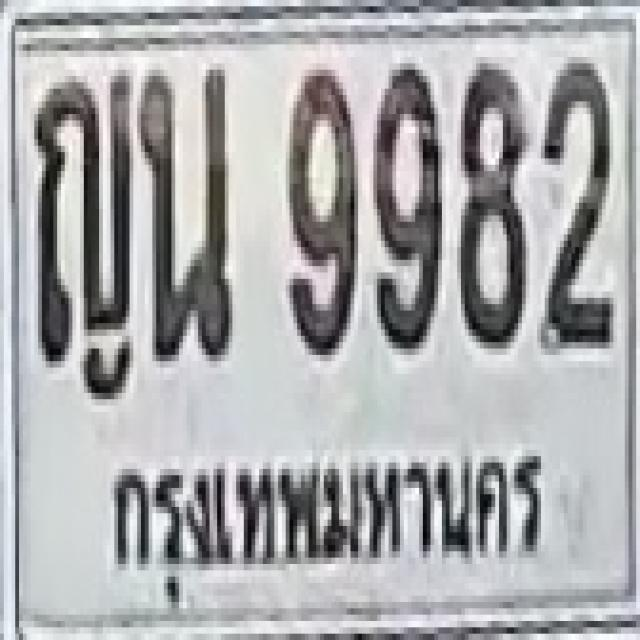2: (541, 61, 613, 346)
8: (457, 61, 526, 346)
9: (286, 63, 358, 355), (373, 60, 442, 352)
A13: (30, 67, 134, 358)
A25: (139, 60, 231, 358)
BKK: (104, 430, 545, 580)
